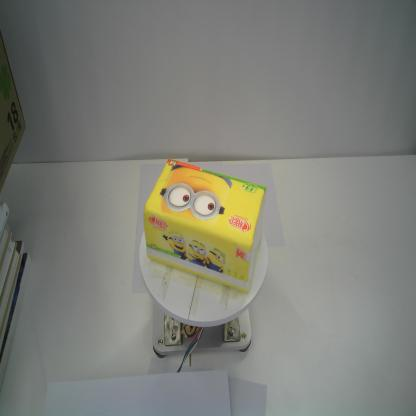Tissue: (143, 157, 268, 294)
